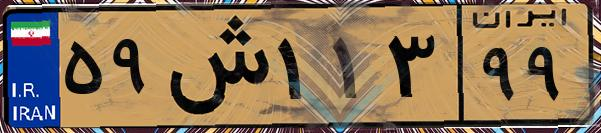1: (270, 28, 330, 110), (330, 28, 385, 110)
3: (385, 28, 445, 110)
5: (57, 26, 110, 100)
9: (475, 38, 525, 113), (525, 38, 570, 115), (110, 28, 158, 98)
ش: (158, 12, 270, 120)
